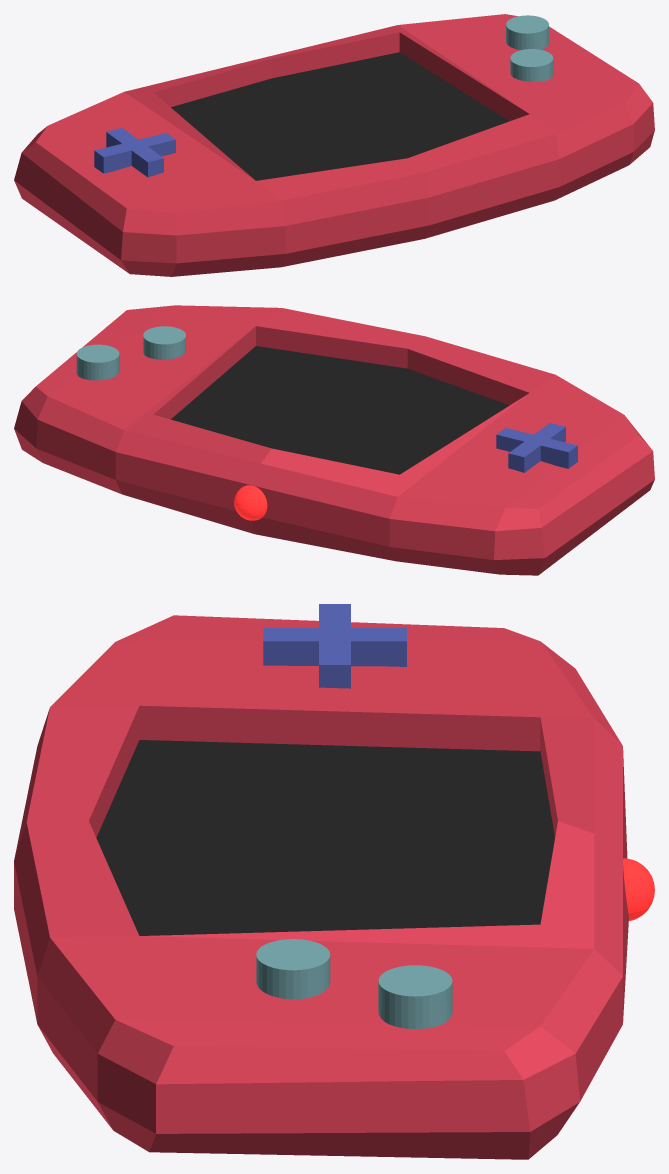
The model's file is phone1Nintendo.fbx.
3 renders of one model, top to bottom at view 1: azimuth 30°, elevation 25°; view 2: azimuth 150°, elevation 25°; view 3: azimuth 270°, elevation 25°, orthographic. The views are drawn at different scales.
Parts seen in each view (by area): view 1: Cube, Cube.002, Cylinder, Cylinder.001, Cube.001; view 2: Cube, Cube.002, Cylinder, Cylinder.001, Cube.001, Sphere; view 3: Cube, Cube.001, Cylinder, Cylinder.001, Cube.002, Sphere.
Boxes of the visible parts, x1,y1,x2,y2 form: Cube: [14, 14, 654, 276]; Cube.002: [94, 133, 175, 173]; Cylinder: [506, 15, 548, 50]; Cylinder.001: [510, 49, 553, 81]; Cube.001: [106, 128, 163, 177]; Cube: [14, 305, 654, 575]; Cube.002: [496, 428, 577, 468]; Cylinder: [76, 344, 119, 380]; Cylinder.001: [143, 326, 185, 359]; Cube.001: [508, 423, 565, 472]; Sphere: [234, 485, 267, 520]; Cube: [14, 615, 628, 1159]; Cube.001: [263, 627, 406, 666]; Cylinder: [378, 965, 452, 1028]; Cylinder.001: [256, 939, 330, 999]; Cube.002: [319, 604, 350, 688]; Sphere: [623, 858, 654, 920].
Size of the model in its own units: 780 by 119 by 470.
